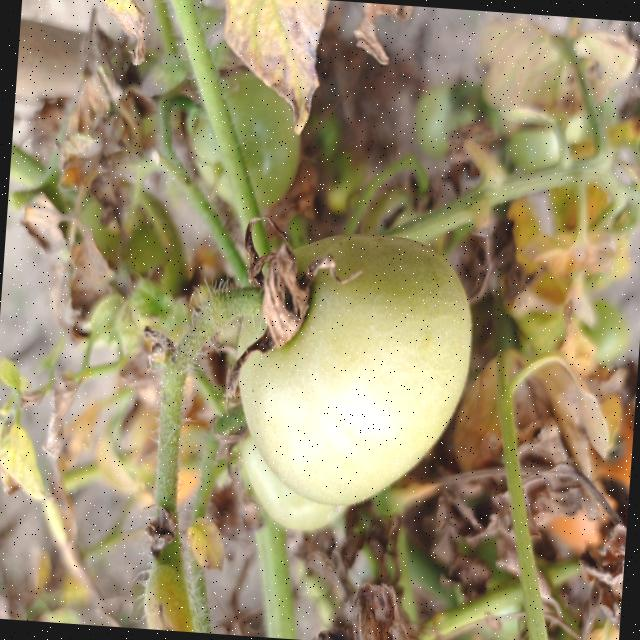Unripe: (226, 223, 479, 518)
